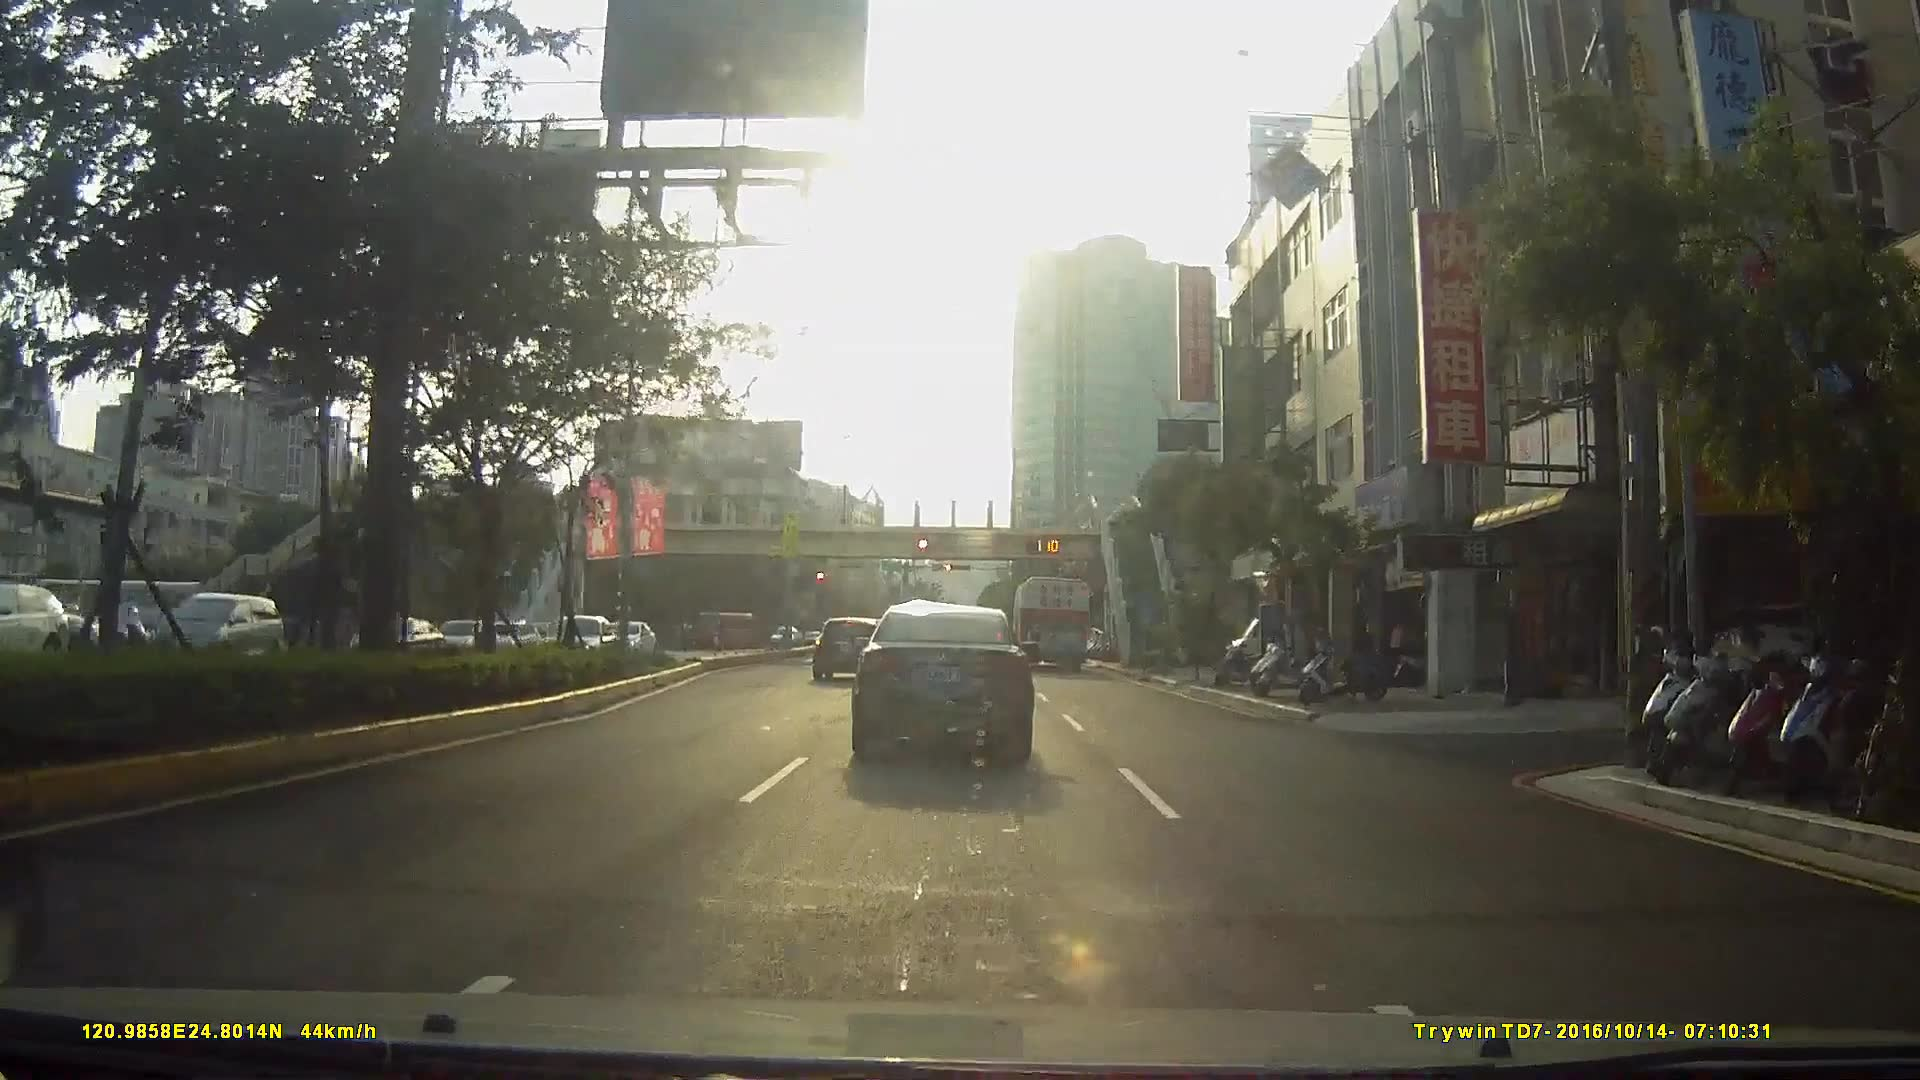vehicle: (848, 599, 1034, 760), (146, 589, 277, 665), (1007, 570, 1092, 669), (810, 612, 880, 680), (765, 622, 800, 647)
